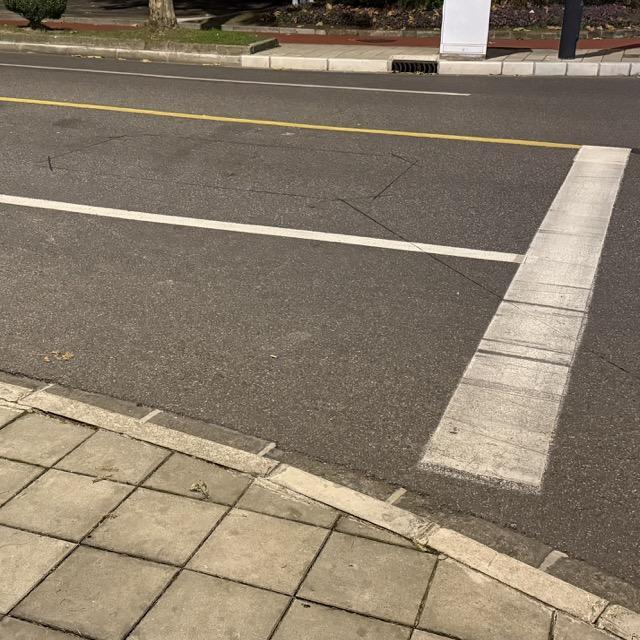curb: (270, 466, 639, 639), (0, 383, 276, 476), (0, 41, 399, 71), (0, 31, 279, 55), (220, 11, 440, 36), (437, 60, 639, 77), (438, 60, 639, 76), (490, 30, 560, 39), (582, 28, 640, 38)
